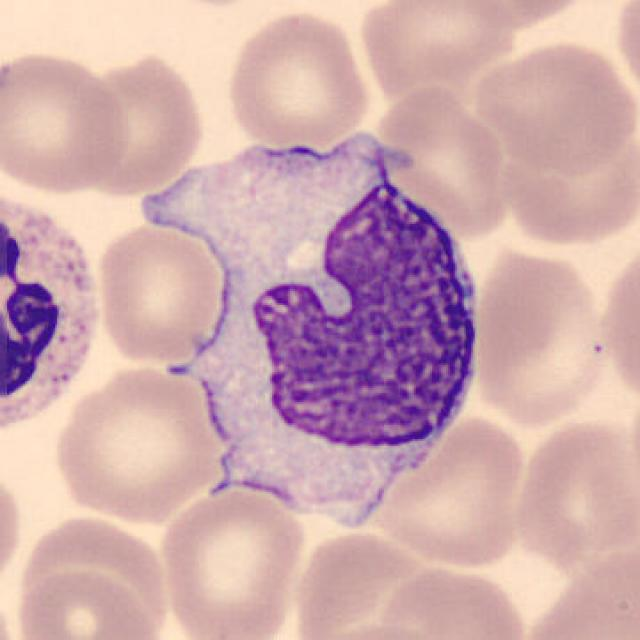Monocyte: (175, 120, 492, 548), (26, 505, 171, 639)
Neutrophil: (0, 172, 110, 450)
RBC: (48, 362, 235, 527), (468, 241, 615, 432), (366, 411, 532, 571), (152, 479, 309, 640), (468, 35, 636, 175), (372, 81, 516, 242), (220, 5, 374, 152), (508, 413, 638, 571), (92, 218, 228, 368), (76, 48, 210, 198), (491, 116, 638, 252), (0, 46, 132, 196), (288, 524, 443, 638), (354, 0, 519, 97), (371, 560, 531, 640), (514, 543, 640, 640), (10, 564, 162, 640), (594, 235, 640, 416), (448, 0, 597, 32), (297, 617, 455, 640), (0, 462, 25, 599), (610, 0, 640, 108)
